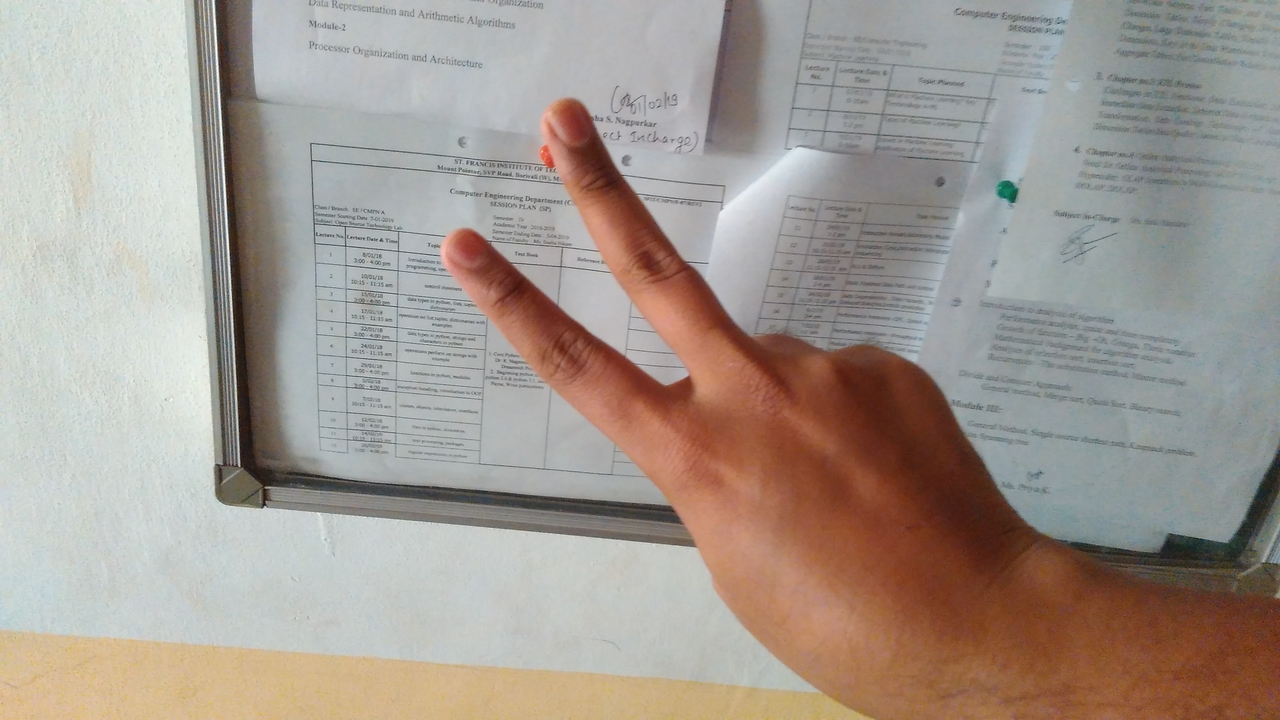fingertip: (528, 98, 598, 156), (440, 224, 496, 276)
